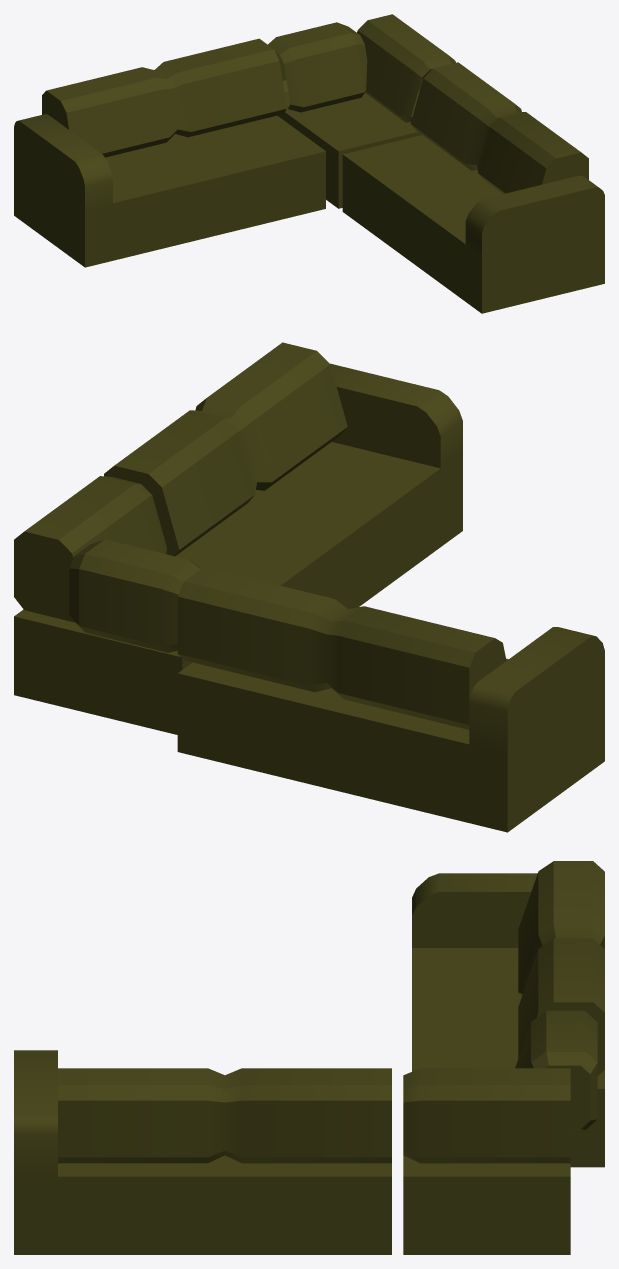
File: blockout_Couch.fbx
3 renders of one model, top to bottom at view 1: azimuth 30°, elevation 25°; view 2: azimuth 150°, elevation 25°; view 3: azimuth 270°, elevation 25°, orthographic. The views are drawn at different scales.
Parts seen in each view (by area): view 1: blockout_Couch; view 2: blockout_Couch; view 3: blockout_Couch.
Part boxes in pixels (bbox=[...]): blockout_Couch: bbox=[14, 14, 604, 313]; blockout_Couch: bbox=[14, 342, 604, 832]; blockout_Couch: bbox=[14, 861, 604, 1254].
Bounding box in the file's own units: 175 × 54.46 × 177.
1 material, 1 textured.
